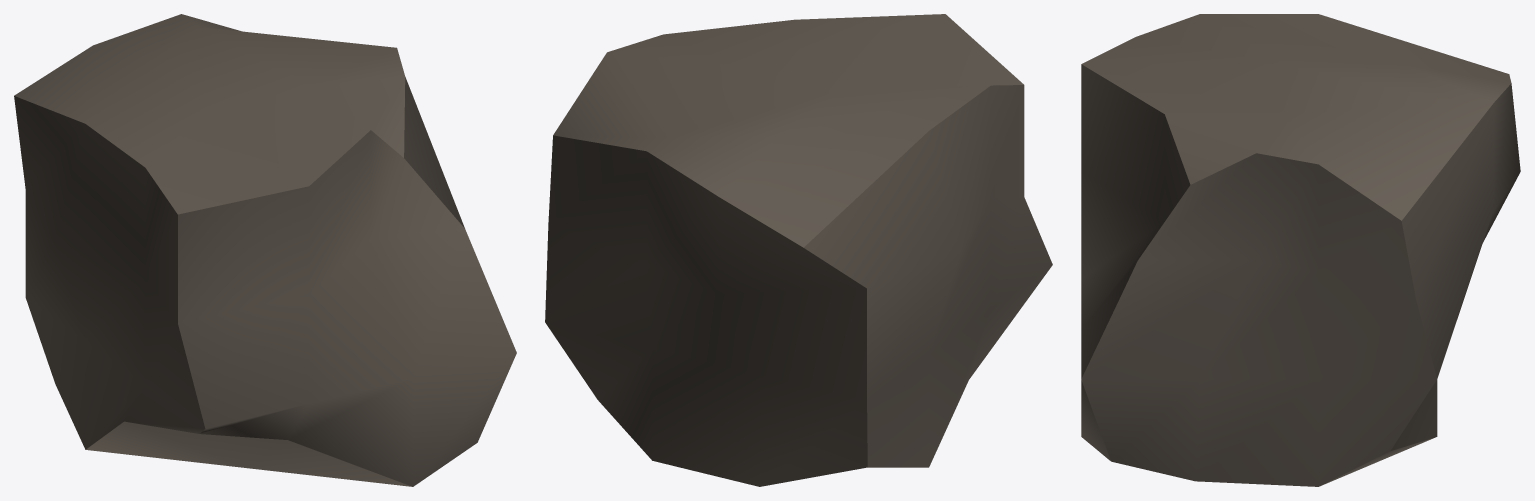
File: asteroid2.obj
3 renders of one model, left to right at view 1: azimuth 30°, elevation 25°; view 2: azimuth 150°, elevation 25°; view 3: azimuth 270°, elevation 25°, orthographic. The views are drawn at different scales.
Parts seen in each view (by area): view 1: pCube2; view 2: pCube2; view 3: pCube2.
Boxes of the visible parts, bbox=[...] form: pCube2: bbox=[14, 14, 516, 486]; pCube2: bbox=[545, 14, 1052, 486]; pCube2: bbox=[1081, 14, 1520, 486].
Bounding box in the file's own units: 2.93 × 2.9 × 3.2.
